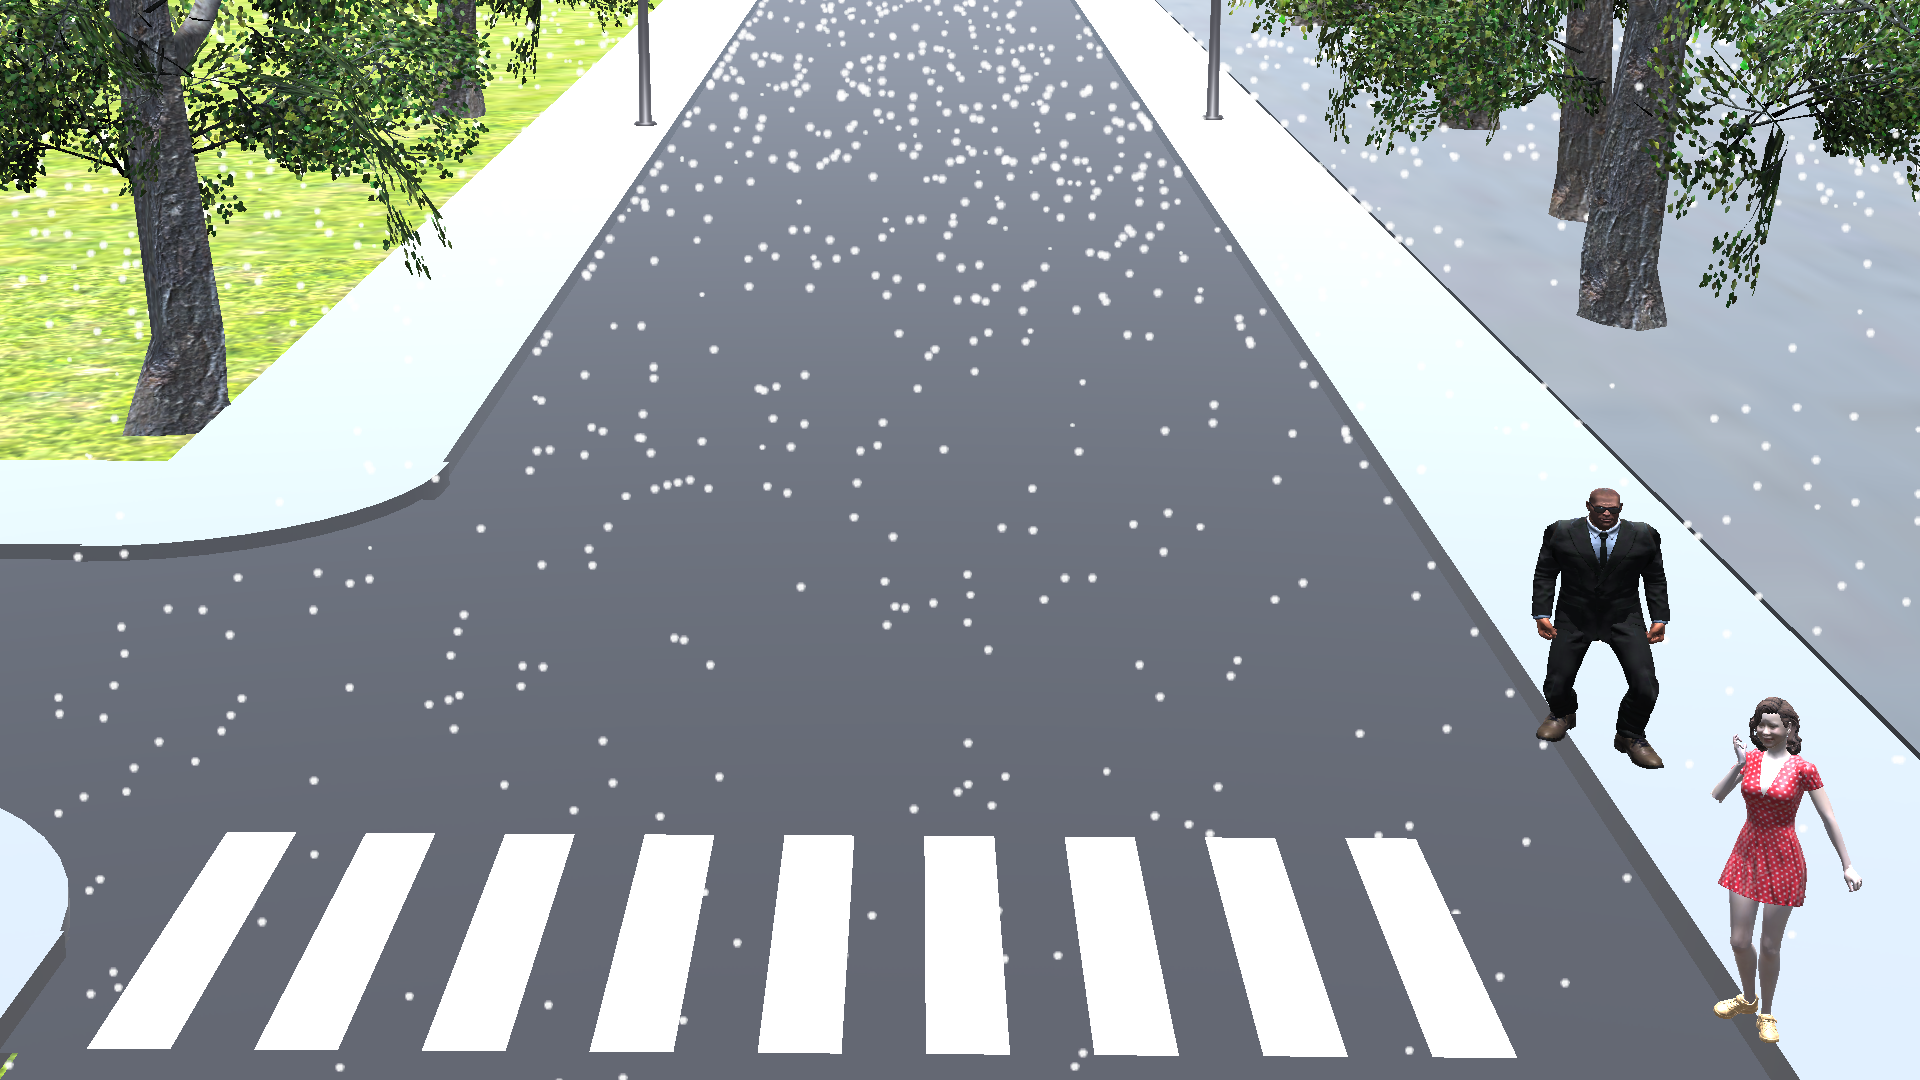pedestrian: (1696, 686, 1870, 1063), (1512, 484, 1673, 793)
